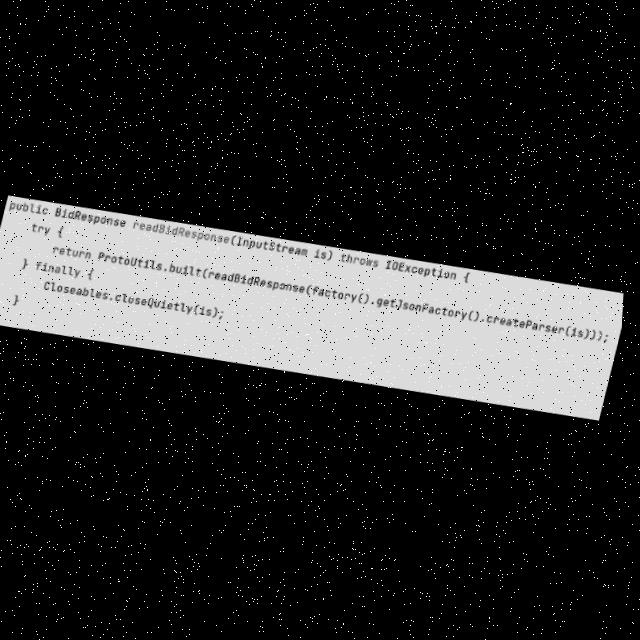code_screen: (0, 196, 624, 419)
